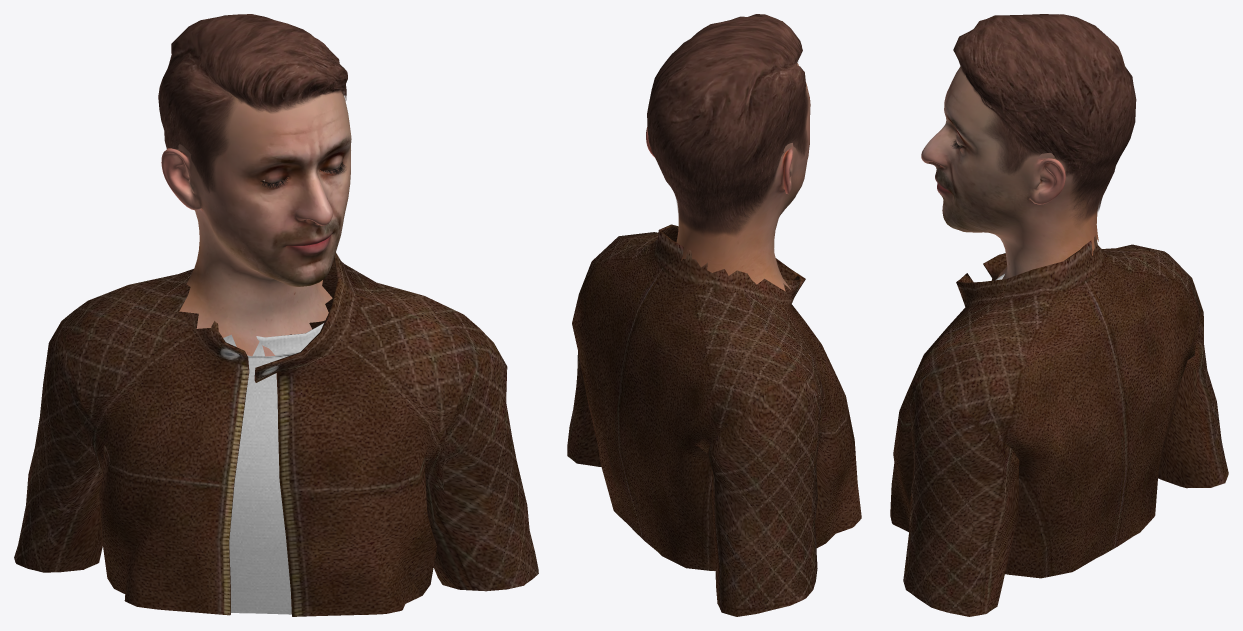
File: alex.glb
3 views of the same model, side by side, from view 1: azimuth 30°, elevation 25°; view 2: azimuth 150°, elevation 25°; view 3: azimuth 270°, elevation 25° (orthographic). The views are drawn at different scales.
Visible parts, largest first — view 1: avaturn_look_0, Head_Mesh.001, avaturn_hair_0; view 2: avaturn_look_0, avaturn_hair_0, Head_Mesh.001; view 3: avaturn_look_0, avaturn_hair_0, Head_Mesh.001.
Boxes of the visible parts, x1,y1,x2,y2 form: avaturn_look_0: (14,253,538,616); Head_Mesh.001: (161,87,351,356); avaturn_hair_0: (158,14,347,192); avaturn_look_0: (567,224,861,616); avaturn_hair_0: (647,14,808,234); Head_Mesh.001: (646,63,810,291); avaturn_look_0: (890,235,1228,616); avaturn_hair_0: (953,14,1136,223); Head_Mesh.001: (921,66,1098,279).
Bounding box in the file's own units: 0.4489 × 0.6212 × 0.3828.
Materials: 7 (7 with a texture image).
